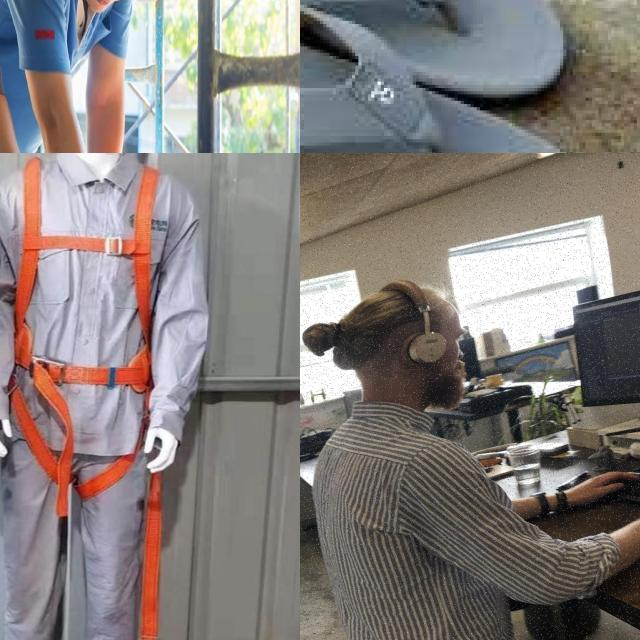Ear-protection: (320, 269, 500, 439)
Harness: (5, 154, 169, 502)
Sandals: (300, 0, 640, 153)
